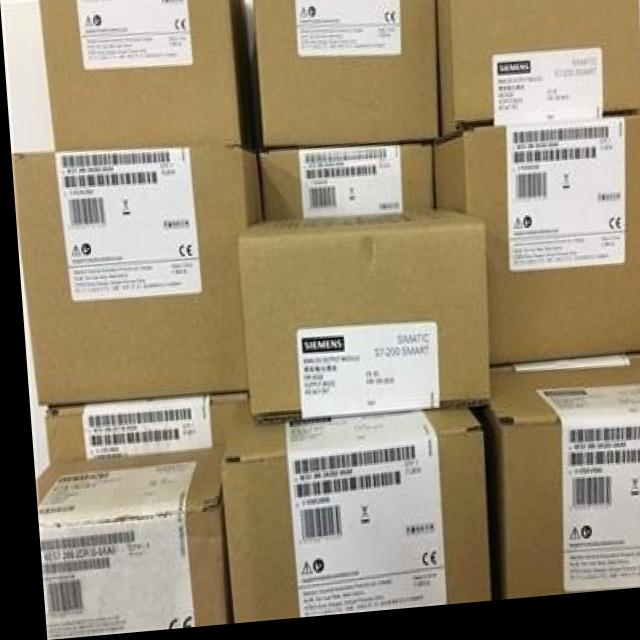box: (9, 154, 258, 407), (213, 415, 482, 624), (429, 125, 640, 375), (235, 219, 482, 422), (468, 367, 640, 604), (28, 449, 222, 636), (39, 0, 249, 152), (437, 0, 639, 146), (250, 0, 437, 151), (39, 396, 243, 462), (257, 150, 430, 223)
